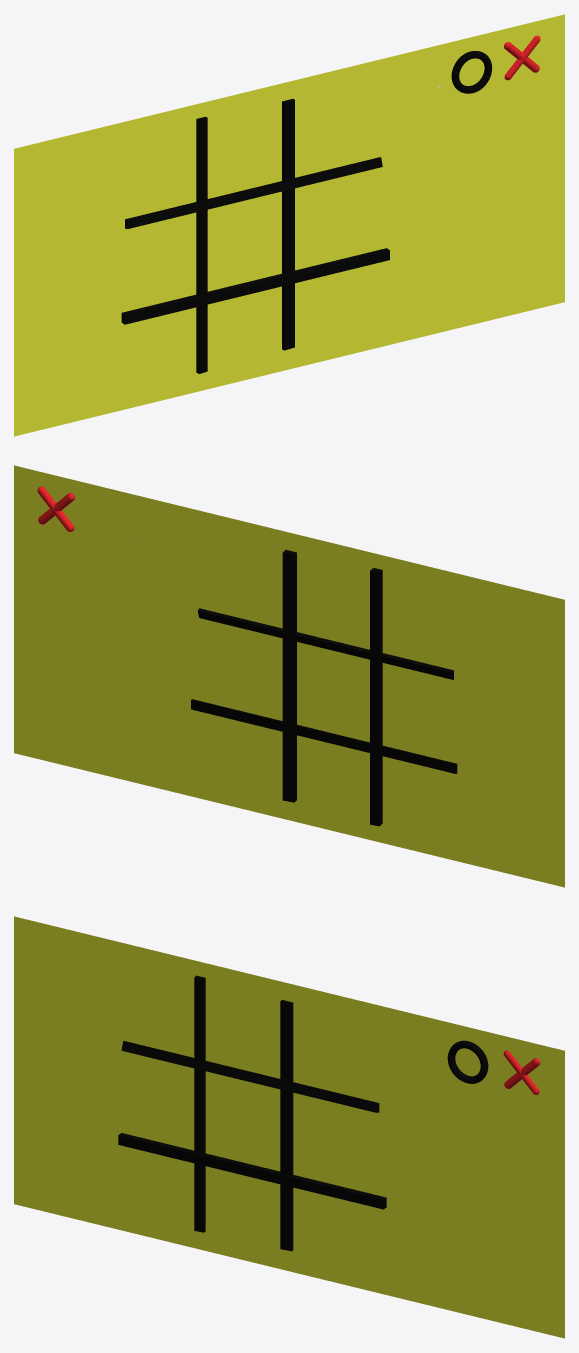
The model's file is mini game.fbx.
3 views of the same model, one above another, from view 1: azimuth 30°, elevation 25°; view 2: azimuth 150°, elevation 25°; view 3: azimuth 330°, elevation 25° (orthographic).
Visible parts, largest first — view 1: root (×5); view 2: root (×5); view 3: root (×5).
Boxes of the visible parts, x1,y1,x2,y2 form: root (×5): (14,14,564,436); root (×5): (14,465,564,887); root (×5): (14,916,564,1338).
Bounding box in the file's own units: 1.15 × 0.573 × 0.0295.
Materials: 11 (7 with a texture image).
